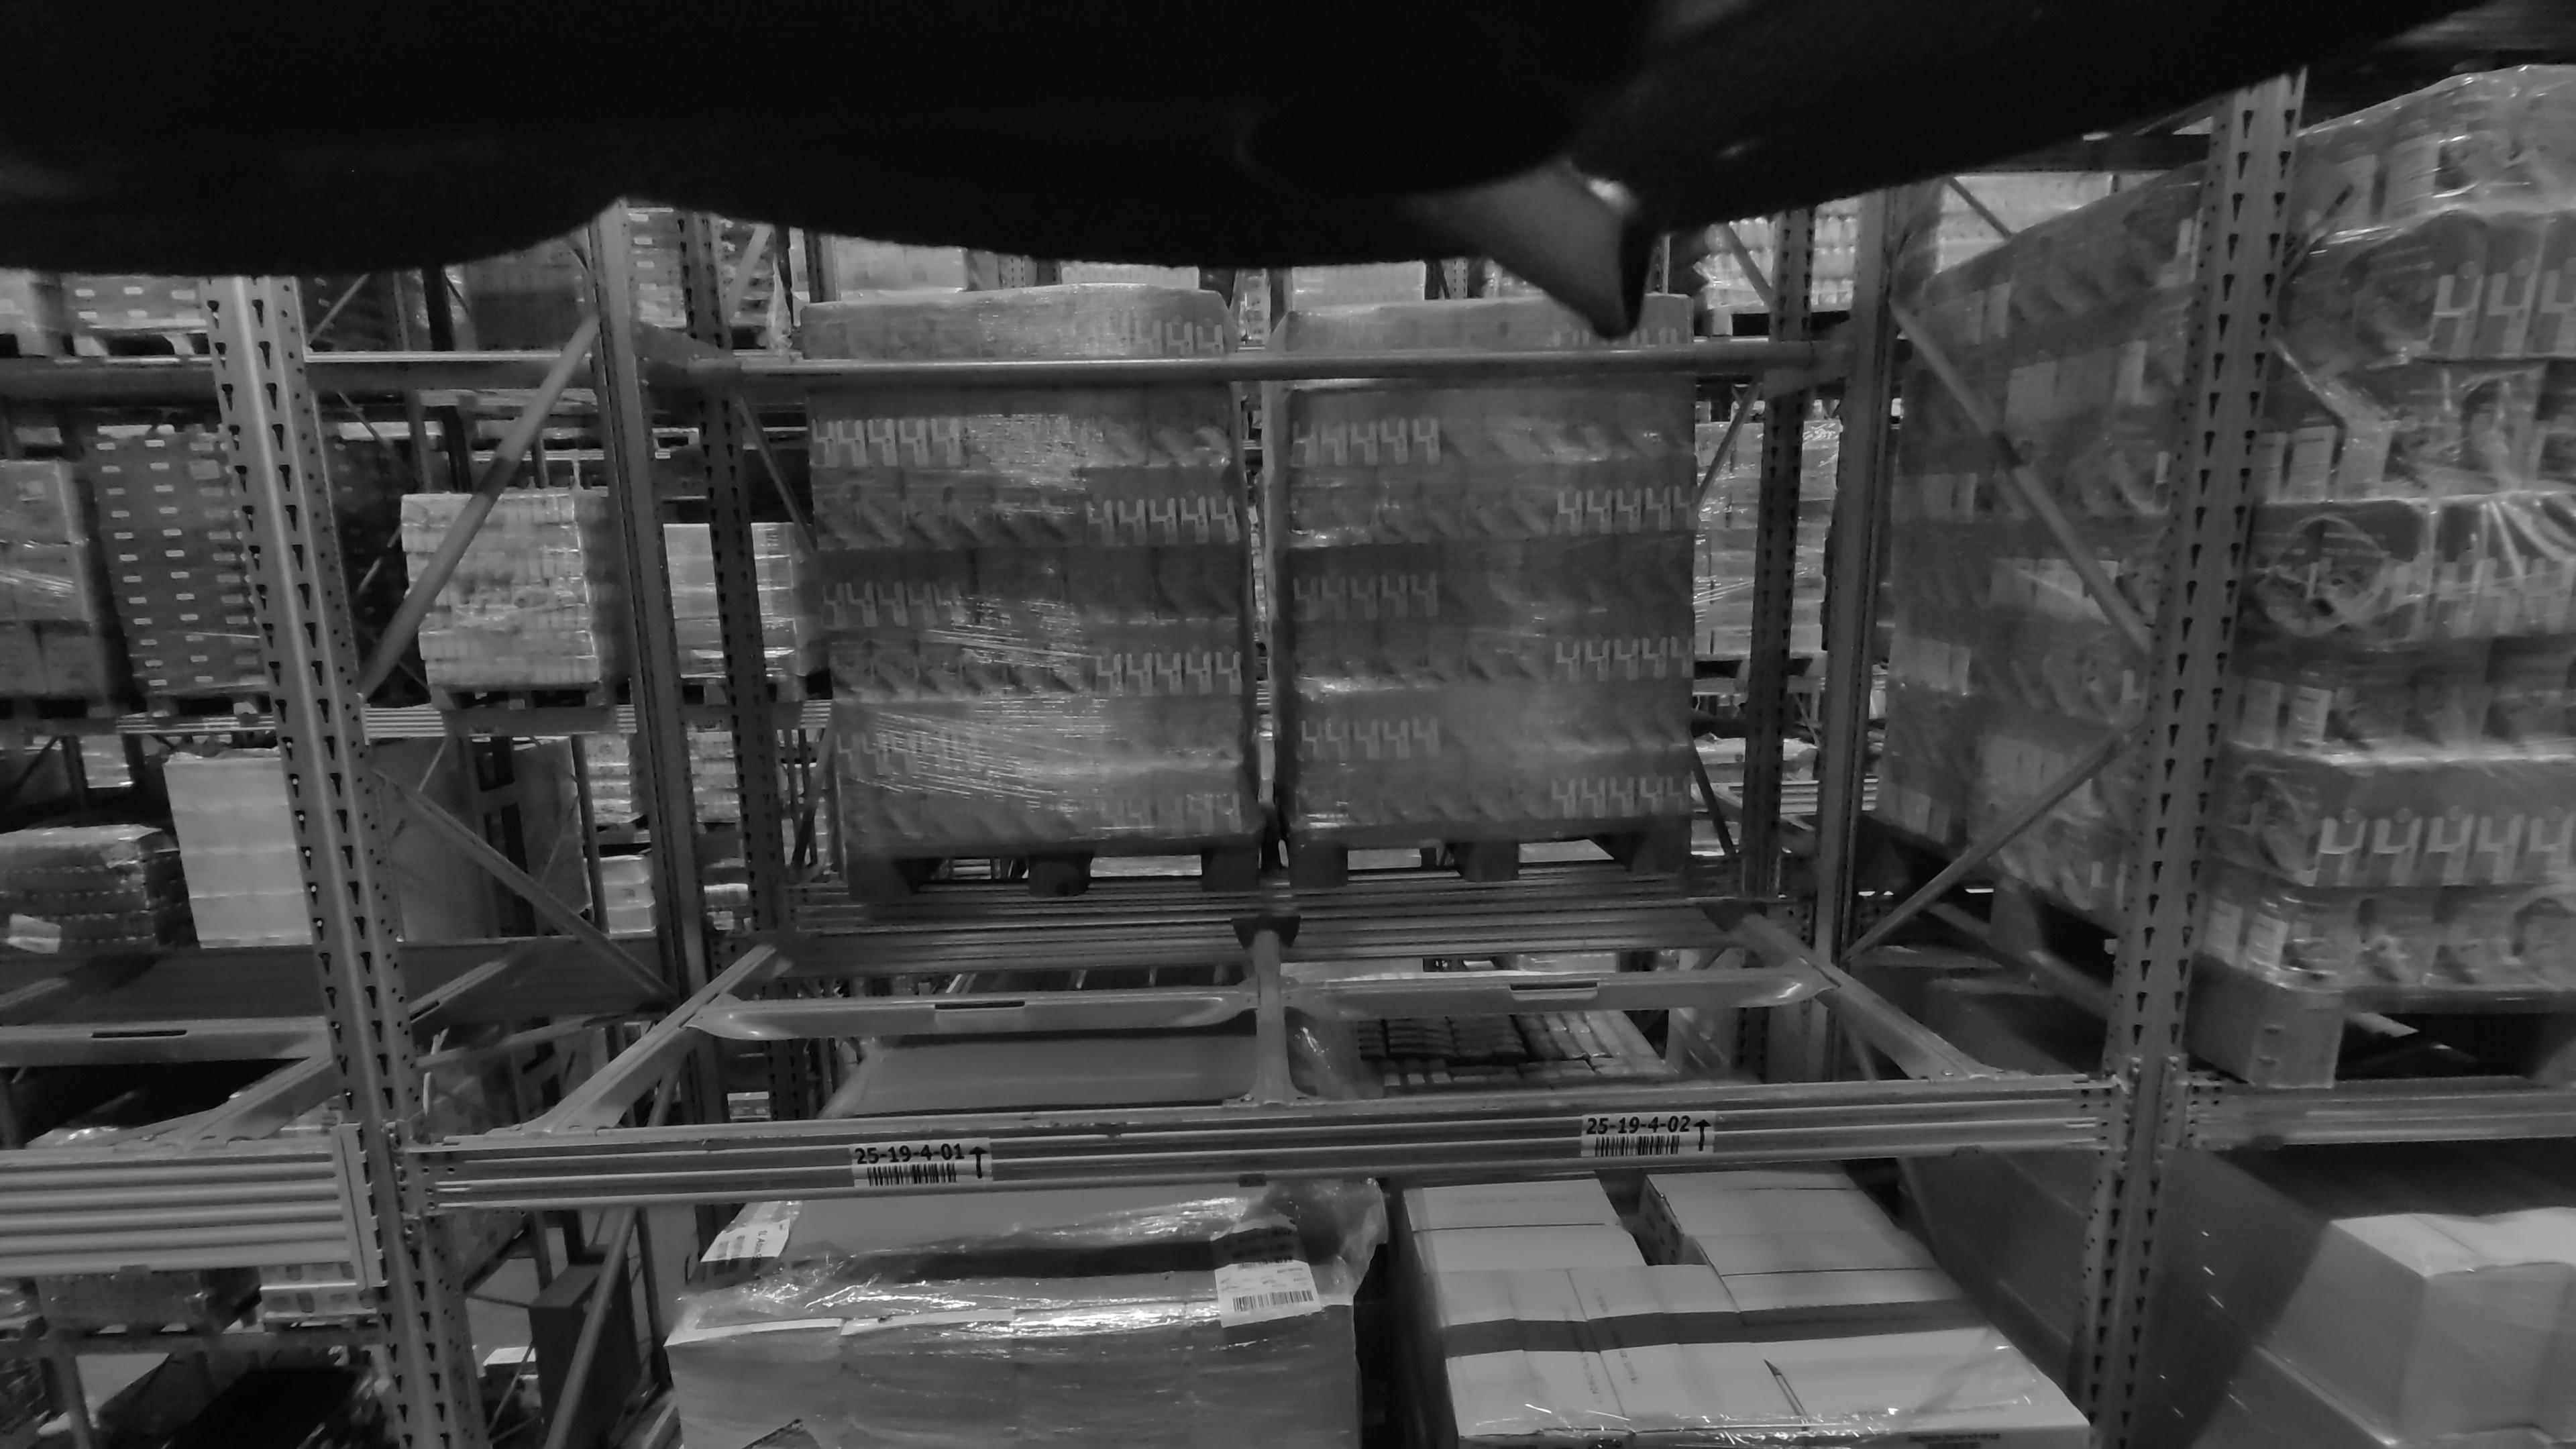empty-shelf: (1281, 203, 1937, 1092), (655, 168, 1244, 1095), (0, 237, 308, 1138)
